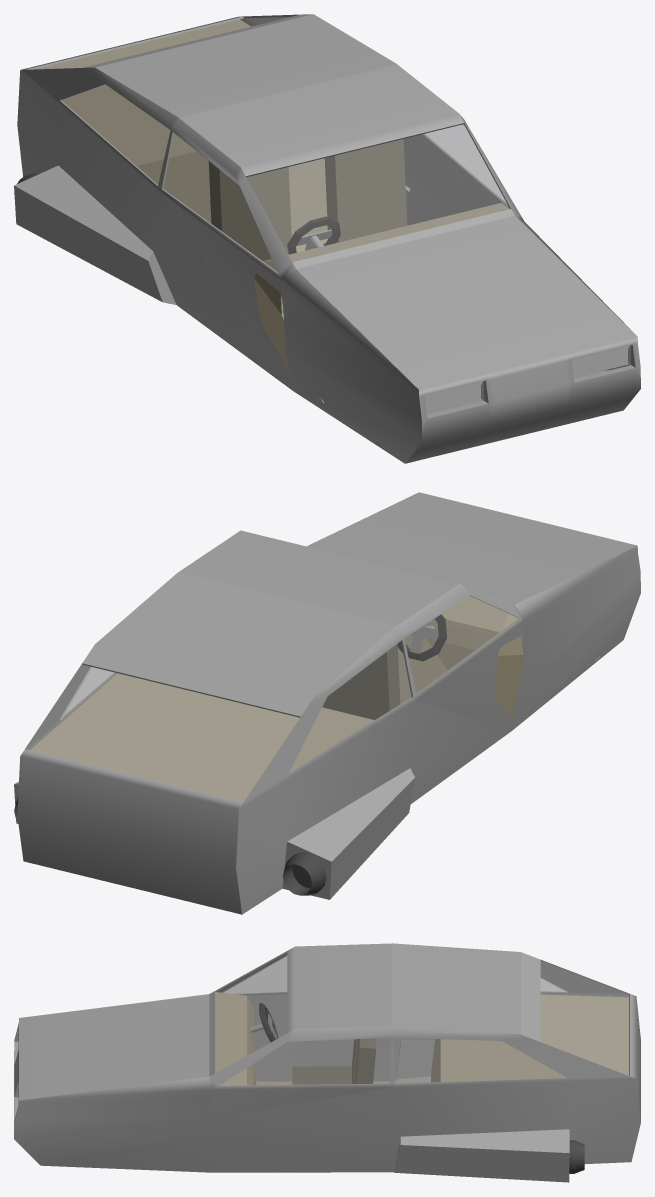
Rendered from cobrolla4.fbx.
The picture shows the model from 3 angles, top to bottom: view 1: azimuth 30°, elevation 25°; view 2: azimuth 150°, elevation 25°; view 3: azimuth 270°, elevation 25°; orthographic projection. The views are drawn at different scales.
Visible parts, largest first — view 1: pCube15; view 2: pCube15; view 3: pCube15.
Boxes of the visible parts, <box> form: pCube15: <box>14,14,640,463</box>; pCube15: <box>14,492,640,914</box>; pCube15: <box>14,943,640,1182</box>.
Bounding box in the file's own units: 6.51 × 3.71 × 14.37.
